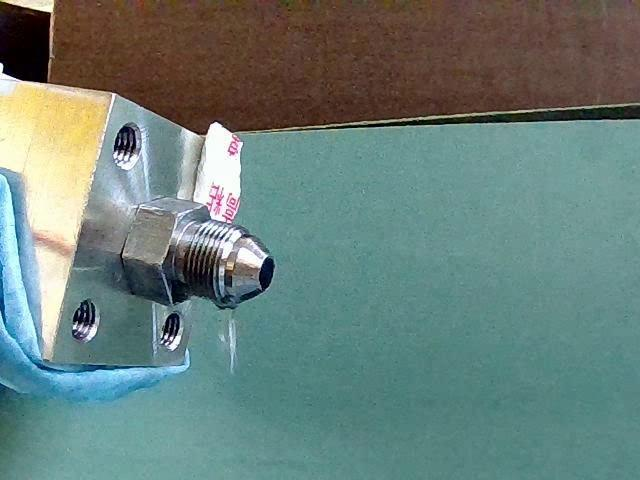water drop: (210, 301, 239, 376)
